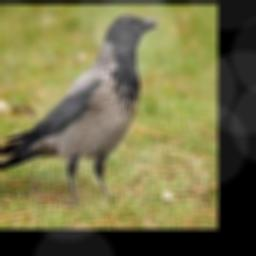Crow: (0, 13, 156, 201)
